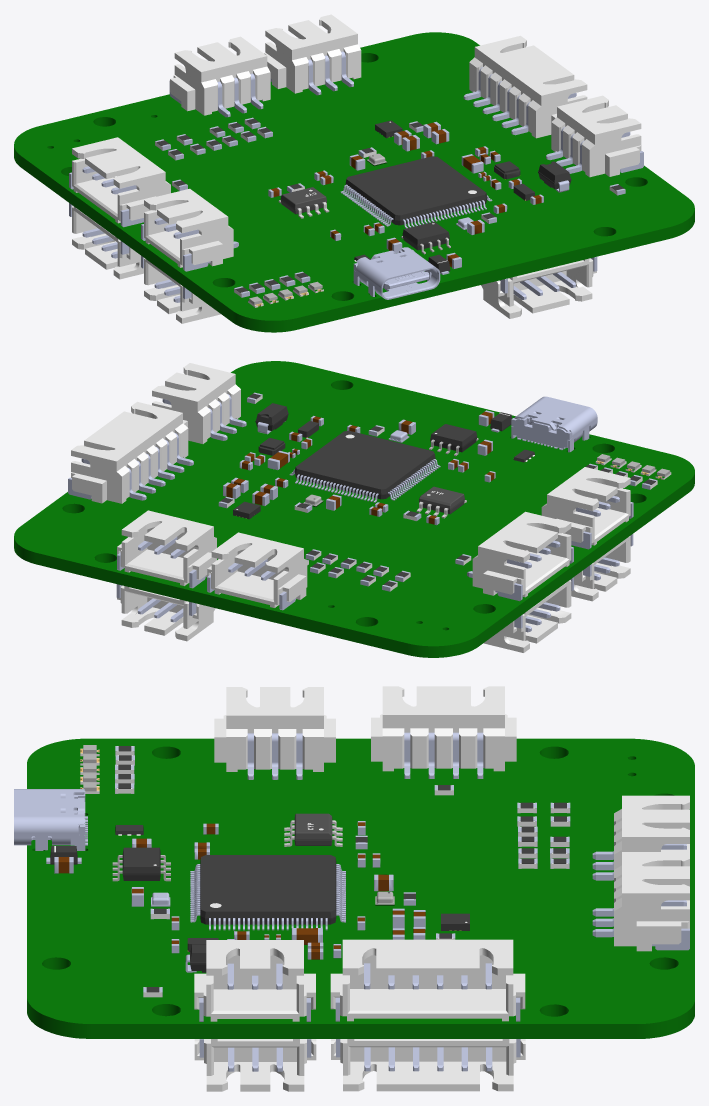
Rendered from fmu-rev-a.glb.
3 views of the same model, one above another, from view 1: azimuth 30°, elevation 25°; view 2: azimuth 150°, elevation 25°; view 3: azimuth 270°, elevation 25° (orthographic). The views are drawn at different scales.
Visible parts, largest first — view 1: PCB; view 2: PCB; view 3: PCB.
Boxes of the visible parts, x1=… form: PCB: x1=14, y1=14, x2=694, y2=332; PCB: x1=14, y1=361, x2=694, y2=657; PCB: x1=14, y1=686, x2=694, y2=1091.
Size of the model in its own units: 69.46 by 13.95 by 70.02.
